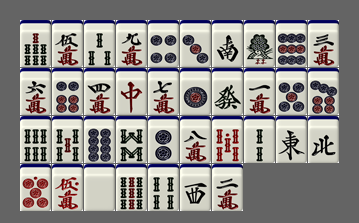0m: (52, 164, 83, 211)
0p: (20, 164, 51, 211)
0s: (212, 116, 243, 163)
1m: (244, 68, 275, 115)
1p: (180, 68, 211, 115)
1s: (244, 20, 275, 67)
1z: (276, 116, 307, 163)
2m: (212, 164, 243, 211)
2p: (148, 116, 179, 163)
2s: (244, 116, 275, 163)
2z: (212, 20, 243, 67)
3m: (308, 20, 339, 67)
3p: (180, 20, 211, 67)
3s: (84, 20, 115, 67)
3z: (180, 164, 211, 211)
4m: (84, 68, 115, 115)
4p: (148, 20, 179, 67)
4s: (148, 164, 179, 211)
4z: (308, 116, 339, 163)
5m: (52, 20, 83, 67)
5p: (276, 68, 307, 115)
5s: (52, 116, 83, 163)
5z: (84, 164, 115, 211)
6m: (20, 68, 51, 115)
6p: (52, 68, 83, 115)
6s: (20, 116, 51, 163)
6z: (212, 68, 243, 115)
7m: (148, 68, 179, 115)
7p: (308, 68, 339, 115)
7s: (20, 20, 51, 67)
7z: (116, 68, 147, 115)
8m: (180, 116, 211, 163)
8p: (84, 116, 115, 163)
8s: (116, 116, 147, 163)
9m: (116, 20, 147, 67)
9p: (276, 20, 307, 67)
9s: (116, 164, 147, 211)
